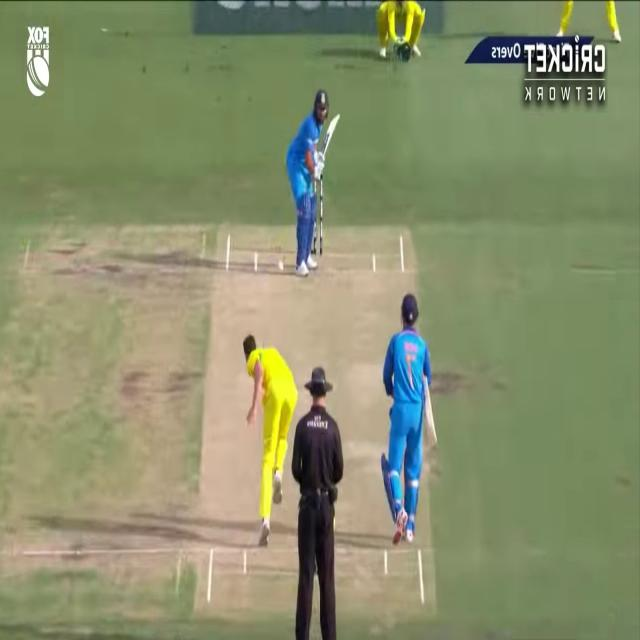ball: (276, 259, 284, 273)
stump: (313, 165, 323, 254), (314, 213, 317, 255)
